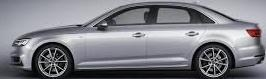Cars: (11, 2, 265, 78)
